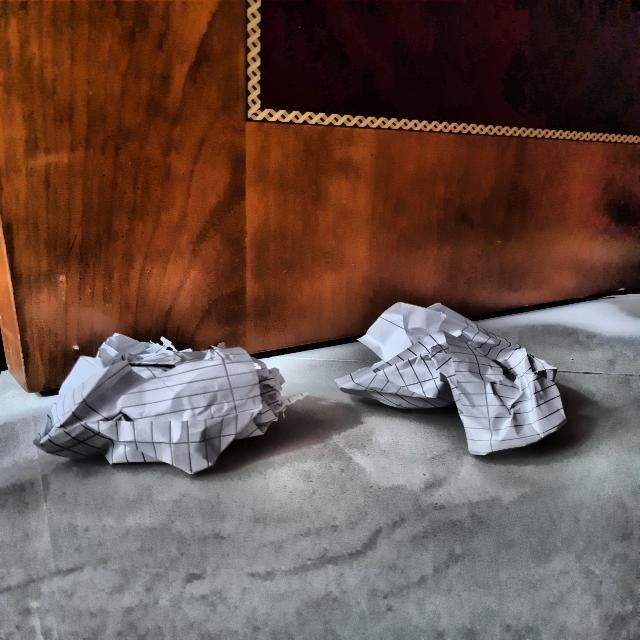Paper: (346, 302, 567, 462), (41, 330, 278, 470)
